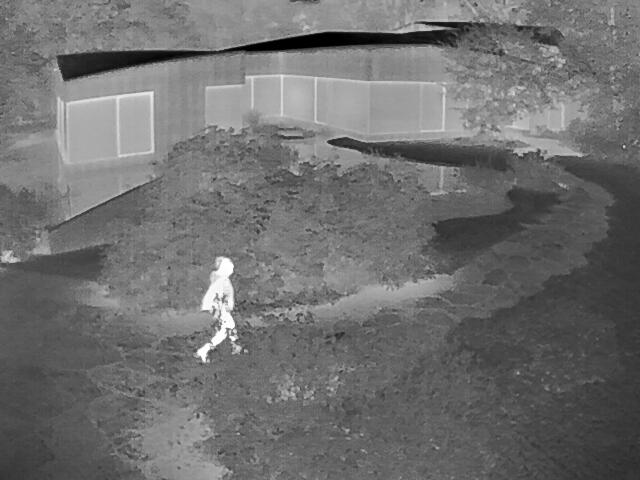person: (195, 256, 248, 363)
